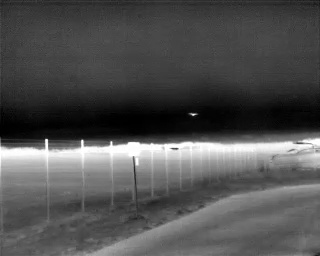AIRPLANE: (187, 110, 199, 119)
